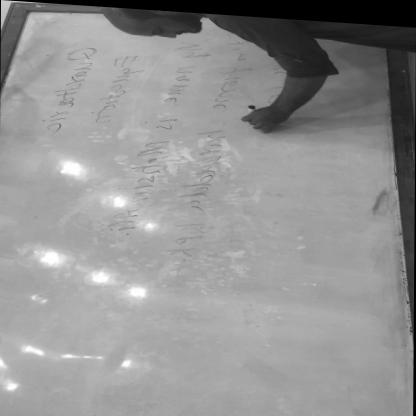Handwritten text: (99, 20, 223, 248), (155, 27, 265, 268), (17, 25, 108, 152), (70, 35, 155, 141)
Lecturer: (93, 5, 416, 129)
Whiteboard: (0, 2, 413, 416)
